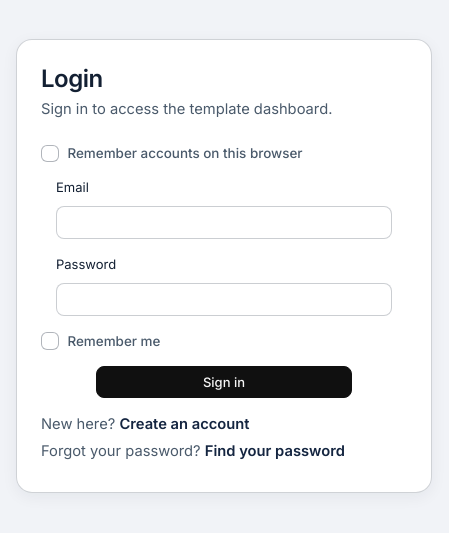
Test: LoginPage › shows validation error when email format is invalid
# malformed email and valid password are submitted.
Type "invalid-email-format" into the field labelled "Email" at x=224, y=222, box x1=56 y1=206 x2=392 y2=239
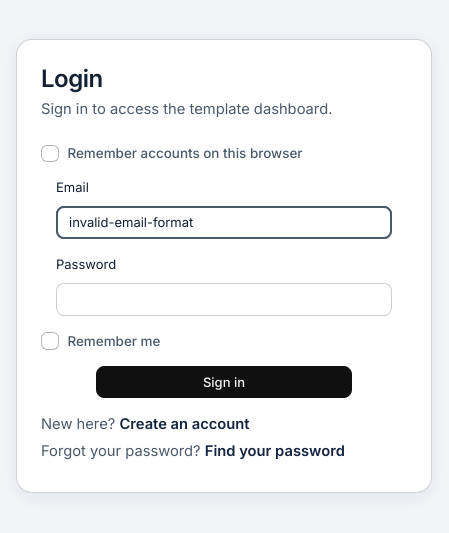
Type "SeededPass1!" into the password field labelled "Password" at x=224, y=299, box x1=56 y1=283 x2=392 y2=316
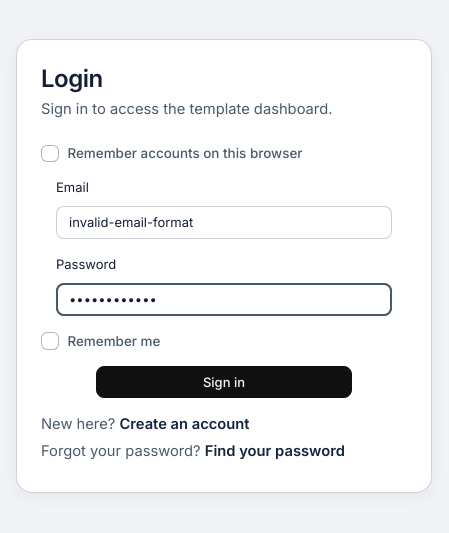
Click the button "Sign in" at x=224, y=382, box x1=96 y1=366 x2=352 y2=398
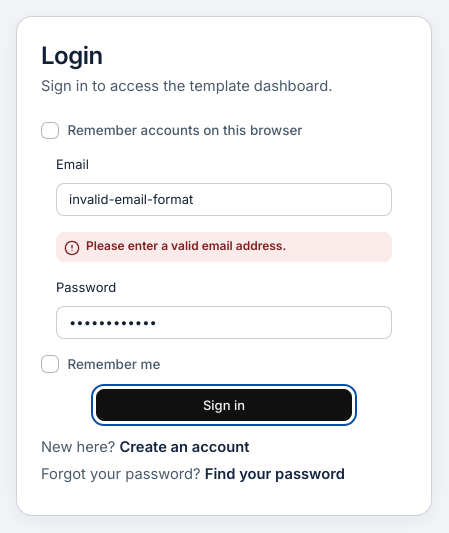
expect the text "Please enter a valid email address." is shown: met, box x1=86 y1=238 x2=286 y2=253
